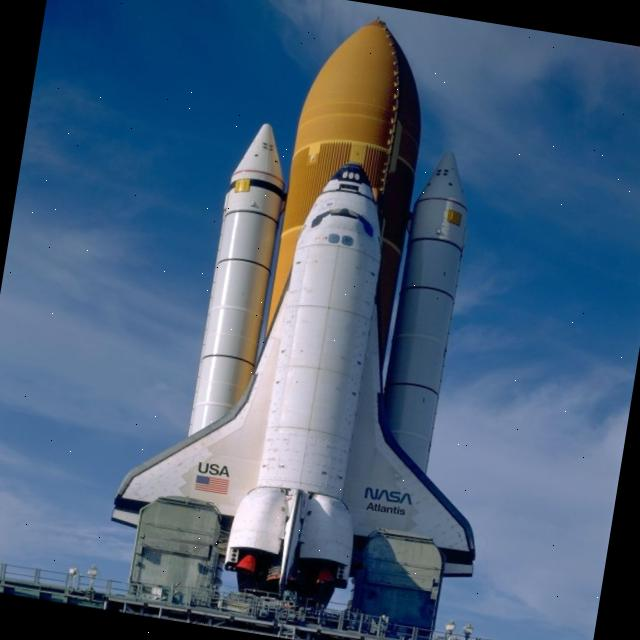rocket: (106, 138, 540, 626)
